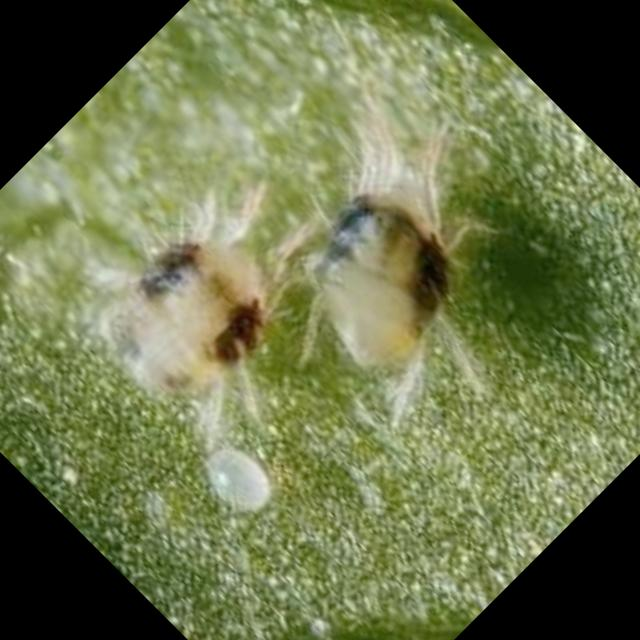spider mite: (204, 60, 601, 457), (13, 143, 312, 442)
